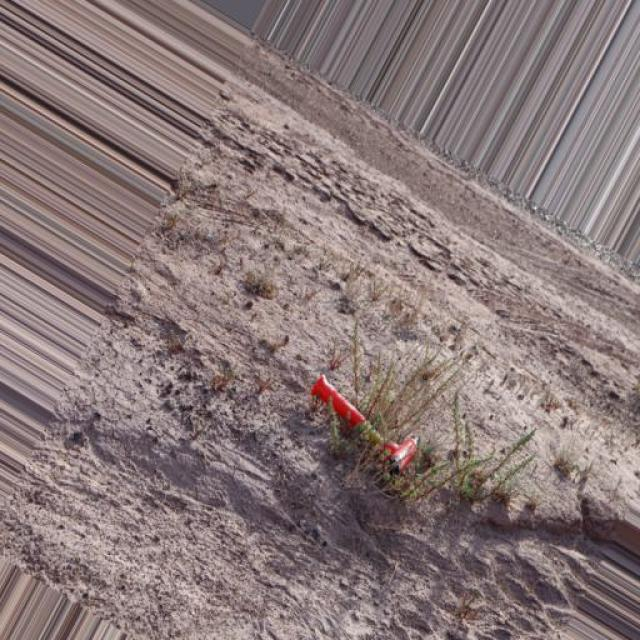mallet: (308, 373, 418, 475)
